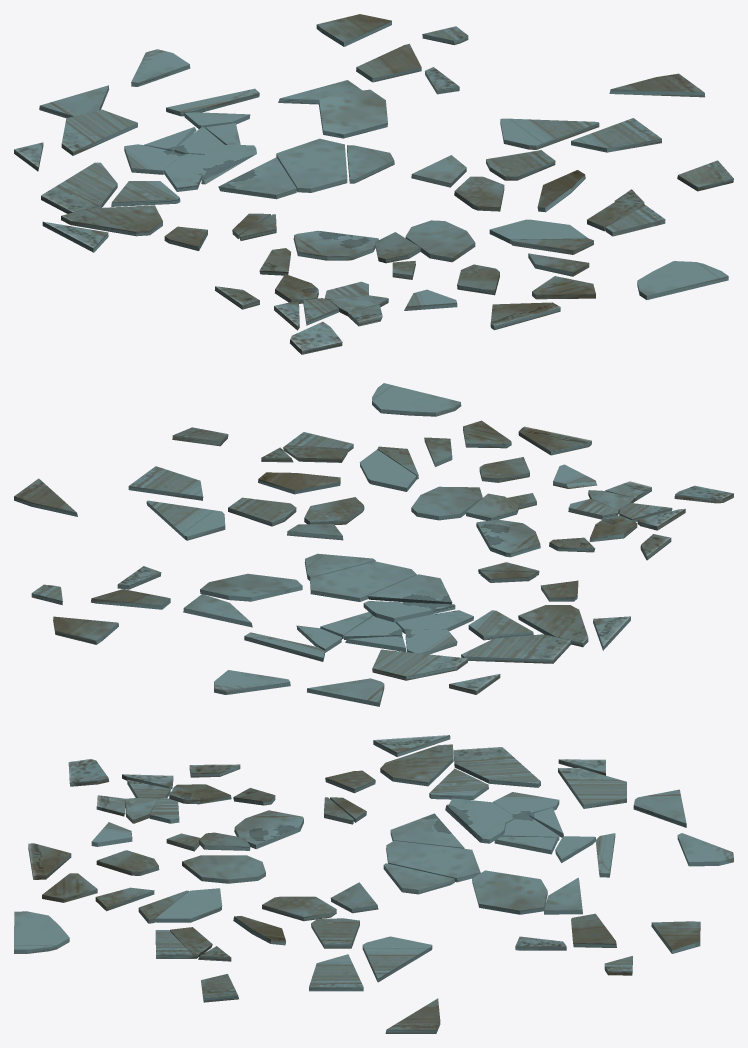
Rendered from mirror_shattered_pieces.DAE.
The picture shows the model from 3 angles, top to bottom: view 1: azimuth 30°, elevation 25°; view 2: azimuth 150°, elevation 25°; view 3: azimuth 270°, elevation 25°; orthographic projection. The views are drawn at different scales.
Parts seen in each view (by area): view 1: Box002; view 2: Box002; view 3: Box002.
Part boxes in pixels (bbox=[...]): Box002: bbox=[14, 14, 733, 354]; Box002: bbox=[14, 383, 733, 706]; Box002: bbox=[14, 735, 733, 1033].
Size of the model in its own units: 0.9568 by 0.0199 by 0.9882.
